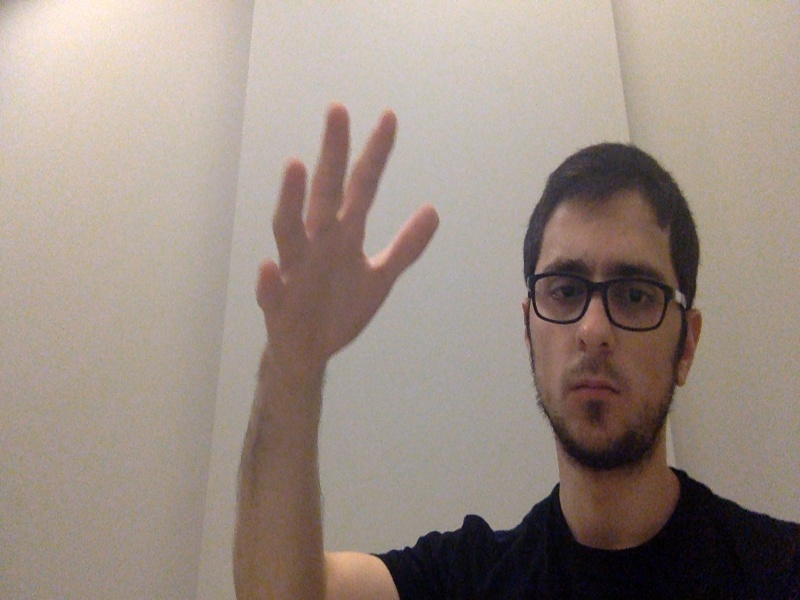5-hand: (254, 102, 443, 375)
